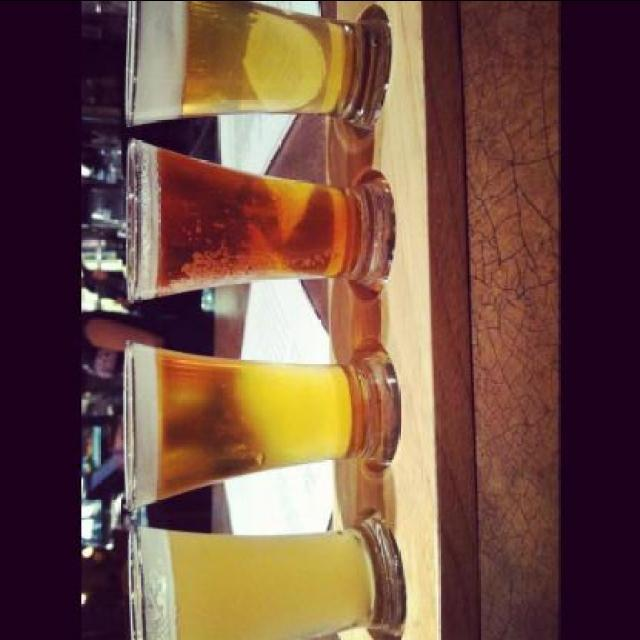Juice: (100, 521, 394, 630)
